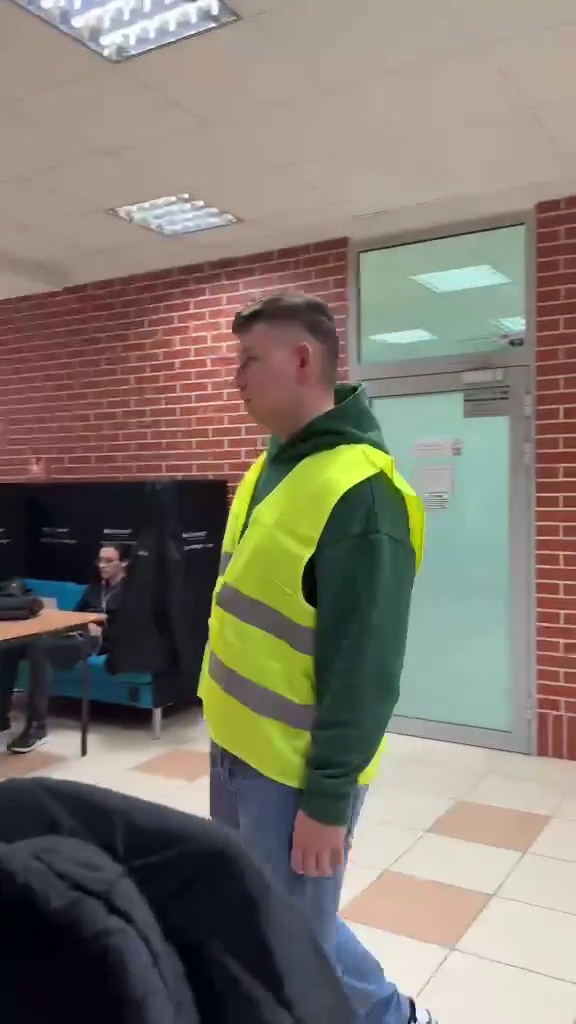no vest: (10, 532, 141, 752)
vest: (189, 285, 407, 1010)
